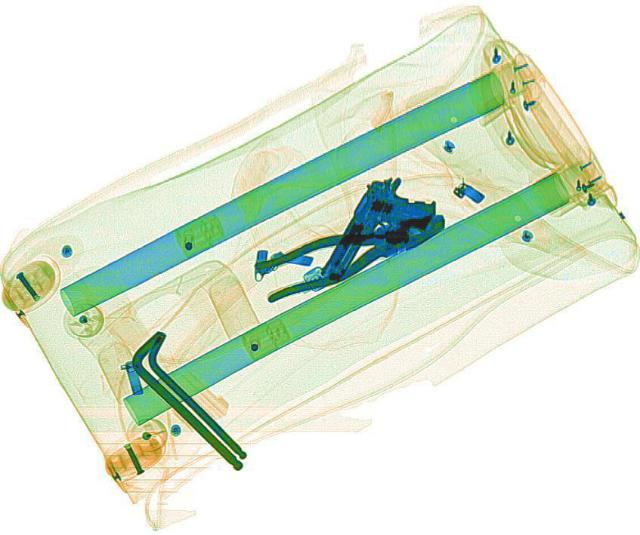Gun: (312, 168, 446, 297)
Pliers: (246, 199, 458, 302)
